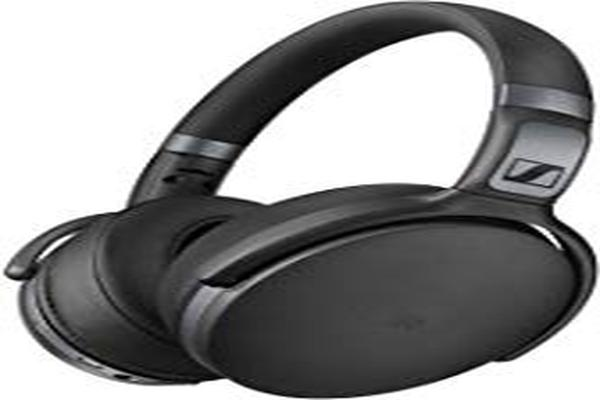headphone: (4, 15, 600, 394)
